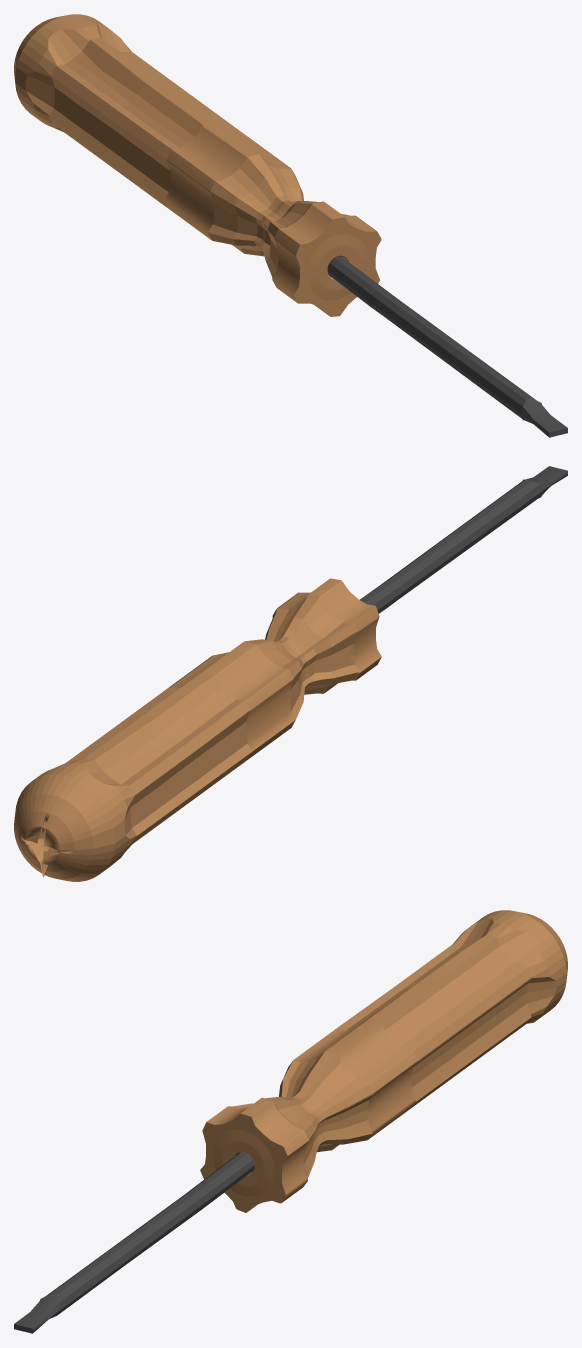
File: Screw_Driver_No_Wheels.FBX
3 views of the same model, one above another, from view 1: azimuth 30°, elevation 25°; view 2: azimuth 150°, elevation 25°; view 3: azimuth 330°, elevation 25° (orthographic).
Parts seen in each view (by area): view 1: pCylinder11; view 2: pCylinder11; view 3: pCylinder11.
Part boxes in pixels (x1,y1,x2,y2): pCylinder11: [14, 14, 567, 437]; pCylinder11: [14, 466, 567, 881]; pCylinder11: [14, 910, 567, 1333].
Size of the model in its own units: 3.09 by 3.1 by 27.85.
